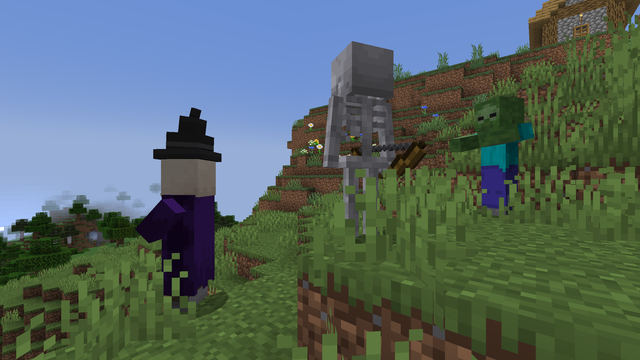sorcieres: (156, 151, 222, 319)
squelettes: (323, 36, 397, 244)
zombies: (476, 96, 521, 217)
